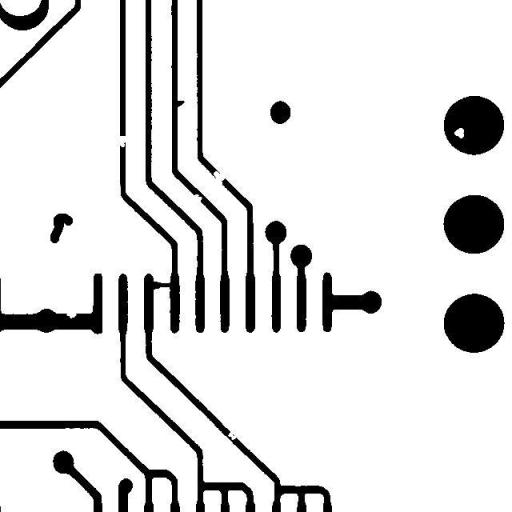copper: (42, 206, 80, 250)
mousebite: (186, 186, 210, 214), (220, 424, 243, 447), (58, 306, 84, 326)
open: (206, 163, 232, 193), (110, 128, 138, 154)
pin-hole: (446, 120, 472, 146)
short: (142, 274, 182, 298)
spur: (167, 93, 192, 115)
